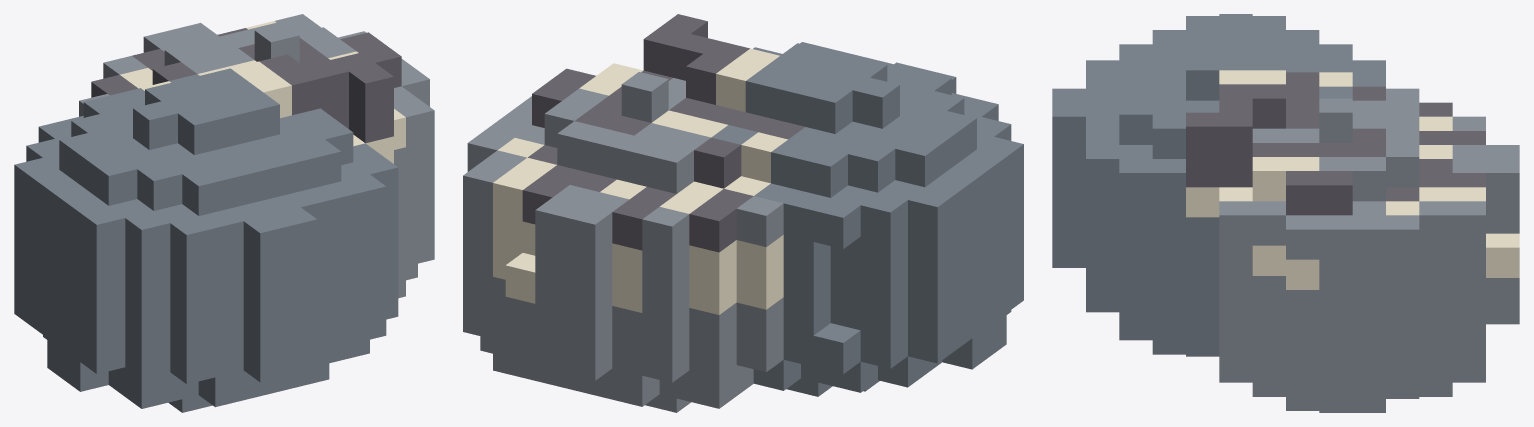
File: barnacled_boulder.glb
3 renders of one model, left to right at view 1: azimuth 30°, elevation 25°; view 2: azimuth 150°, elevation 25°; view 3: azimuth 270°, elevation 25°, orthographic. The views are drawn at different scales.
Bounding box in the file's own units: 0.5833 × 0.375 × 0.5833.
